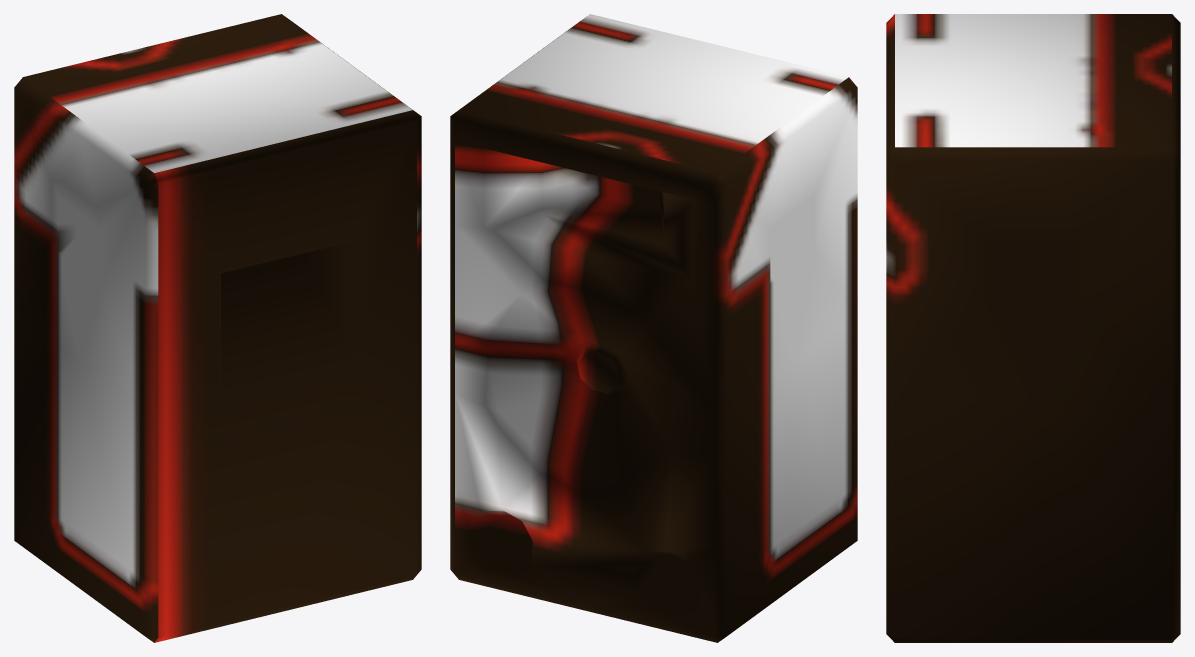
The model's file is DELETE.ICO.obj.
3 views of the same model, side by side, from view 1: azimuth 30°, elevation 25°; view 2: azimuth 150°, elevation 25°; view 3: azimuth 270°, elevation 25° (orthographic). The views are drawn at different scales.
Bounding box in the file's own units: 2.64 × 4.28 × 2.3.
